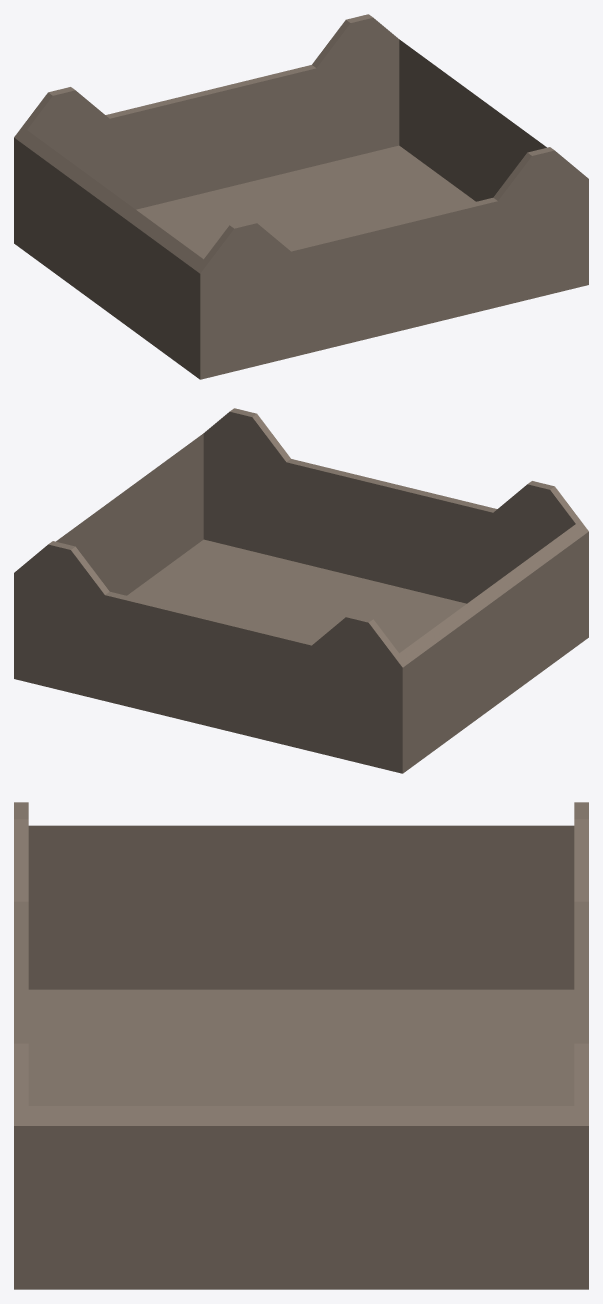
File: tardigrade_body.glb
3 views of the same model, one above another, from view 1: azimuth 30°, elevation 25°; view 2: azimuth 150°, elevation 25°; view 3: azimuth 270°, elevation 25° (orthographic). The views are drawn at different scales.
Parts seen in each view (by area): view 1: Body Shell; view 2: Body Shell; view 3: Body Shell.
Part boxes in pixels (box(x1,y1,x2,y2)): Body Shell: box(14, 14, 588, 379); Body Shell: box(14, 408, 588, 773); Body Shell: box(14, 802, 588, 1289).
Bounding box in the file's own units: 94 × 33 × 78.
